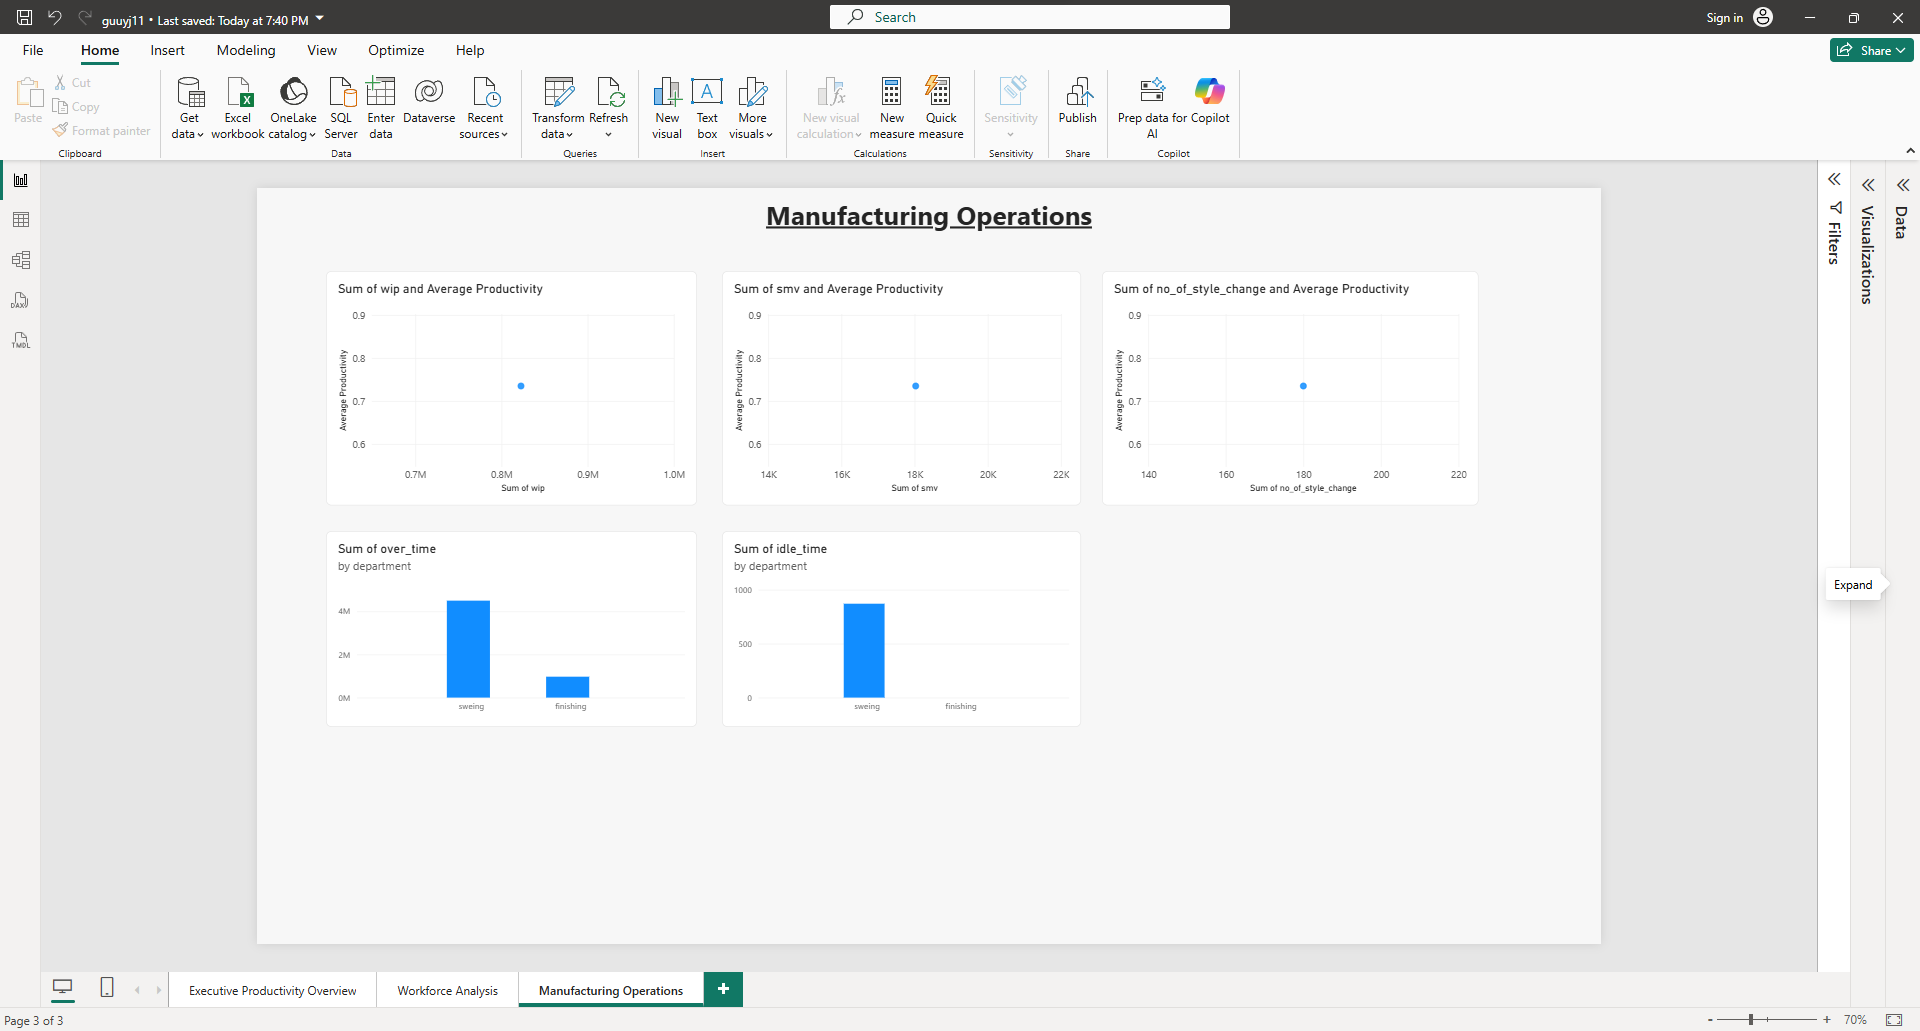

What the dashboard file says about the page in this screenshot:
{"tool":"powerbi","page":{"name":"Manufacturing Operations","canvas":[1920,1080],"ordinal":2},"visuals":[{"type":"scatterChart","fields":{"X":["Sum(ProductionProductivity.wip)"],"Y":["ProductionProductivity.Average Productivity"]},"box":[98.3,118.3,530,335],"z":0},{"type":"scatterChart","fields":{"X":["Sum(ProductionProductivity.smv)"],"Y":["ProductionProductivity.Average Productivity"]},"box":[665,118.3,513.3,335],"z":1000},{"type":"clusteredColumnChart","fields":{"Category":["ProductionProductivity.department"],"Y":["Sum(ProductionProductivity.over_time)"]},"box":[98.3,490,530,280],"z":2000},{"type":"clusteredColumnChart","fields":{"Category":["ProductionProductivity.department"],"Y":["Sum(ProductionProductivity.idle_time)"]},"box":[665,490,513.3,280],"z":3000},{"type":"scatterChart","fields":{"X":["Sum(ProductionProductivity.no_of_style_change)"],"Y":["ProductionProductivity.Average Productivity"]},"box":[1206.7,118.3,538.3,335],"z":4000},{"type":"textbox","box":[0,13.3,1920,68.3],"z":5000}]}

Visuals, with their boxes on the page's 1920x1080 design canvas (x1, y1, x2, y2). These are canvas units, not pixel positions in the 1920x1031 screenshot, which may show the page scaled, cropped or inside an application window:
scatterChart - Sum(ProductionProductivity.wip) x ProductionProductivity.Average Productivity: 98,118,628,453
scatterChart - Sum(ProductionProductivity.smv) x ProductionProductivity.Average Productivity: 665,118,1178,453
clusteredColumnChart - ProductionProductivity.department x Sum(ProductionProductivity.over_time): 98,490,628,770
clusteredColumnChart - ProductionProductivity.department x Sum(ProductionProductivity.idle_time): 665,490,1178,770
scatterChart - Sum(ProductionProductivity.no_of_style_change) x ProductionProductivity.Average Productivity: 1207,118,1745,453
textbox: 0,13,1920,82
